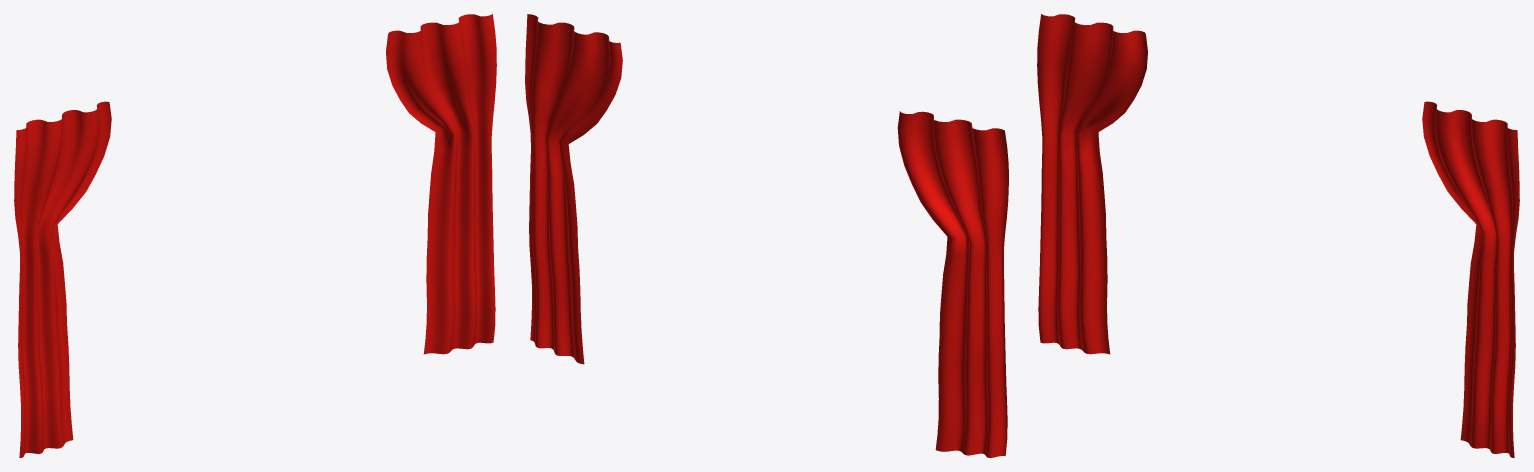
The model's file is Curtains.fbx.
3 views of the same model, side by side, from view 1: azimuth 30°, elevation 25°; view 2: azimuth 150°, elevation 25°; view 3: azimuth 330°, elevation 25° (orthographic).
Parts seen in each view (by area): view 1: Circle.001; view 2: Circle.001; view 3: Circle.001.
Part boxes in pixels (x1,y1,x2,y2): Circle.001: (14,14,496,457); Circle.001: (525,14,1008,457); Circle.001: (1037,14,1519,457).
Bounding box in the file's own units: 1544 × 1009 × 71.28.
